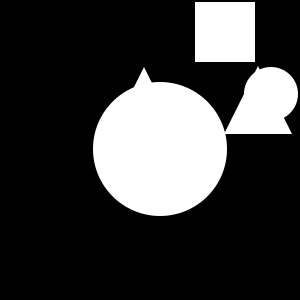circle: (195, 2, 255, 62)
rectangle: (93, 82, 227, 216), (244, 67, 298, 121)
triangle: (98, 67, 190, 159), (224, 66, 292, 134)
